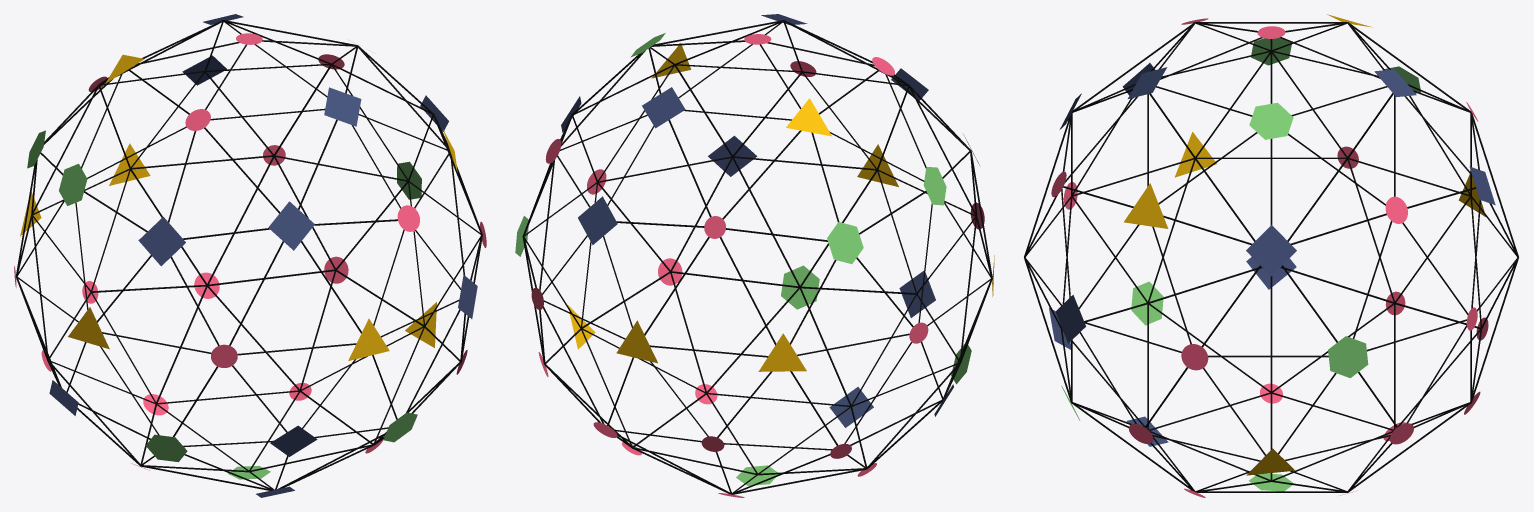
3 renders of one model, left to right at view 1: azimuth 30°, elevation 25°; view 2: azimuth 150°, elevation 25°; view 3: azimuth 270°, elevation 25°, orthographic. The views are drawn at different scales.
Visible parts, largest first — view 1: WireIsosphere.039; view 2: WireIsosphere.039; view 3: WireIsosphere.039.
Boxes of the visible parts, bbox=[...] form: WireIsosphere.039: bbox=[14, 14, 486, 497]; WireIsosphere.039: bbox=[515, 14, 994, 497]; WireIsosphere.039: bbox=[1024, 14, 1518, 497].
Bounding box in the file's own units: 3.39 × 3.46 × 3.44.
